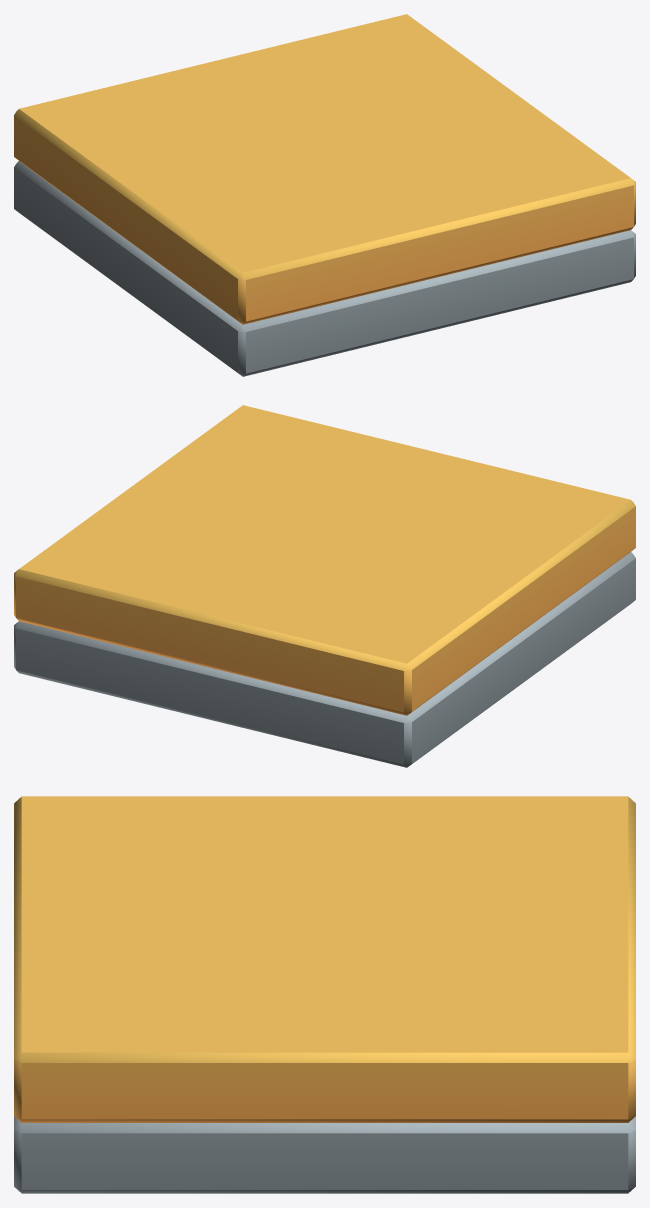
Rendered from platform-4x4x1-yellow.glb.
3 views of the same model, one above another, from view 1: azimuth 30°, elevation 25°; view 2: azimuth 150°, elevation 25°; view 3: azimuth 270°, elevation 25° (orthographic). The views are drawn at different scales.
Visible parts, largest first — view 1: platform_4x4x1_yellow; view 2: platform_4x4x1_yellow; view 3: platform_4x4x1_yellow.
Part boxes in pixels (x1=…): platform_4x4x1_yellow: x1=14, y1=14, x2=635, y2=376; platform_4x4x1_yellow: x1=14, y1=405, x2=635, y2=767; platform_4x4x1_yellow: x1=14, y1=796, x2=635, y2=1193.
Size of the model in its own units: 4 by 1 by 4.
Materials: 1 (1 with a texture image).
